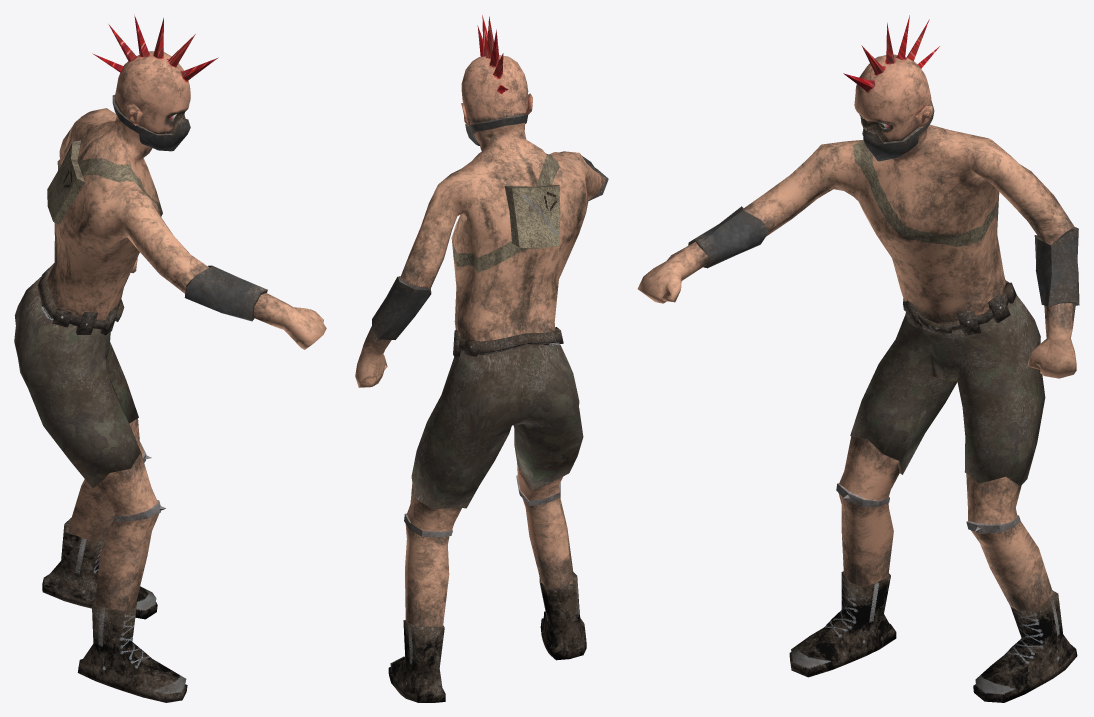
Rendered from Anim_interruptor_npc2.0027.obj.
3 renders of one model, left to right at view 1: azimuth 30°, elevation 25°; view 2: azimuth 150°, elevation 25°; view 3: azimuth 270°, elevation 25°, orthographic. The views are drawn at different scales.
Visible parts, largest first — view 1: polySurface1; view 2: polySurface1; view 3: polySurface1.
Boxes of the visible parts, <box> form: polySurface1: <box>14,14,326,702</box>; polySurface1: <box>355,15,608,702</box>; polySurface1: <box>637,15,1079,702</box>.
Size of the model in its own units: 2.73 by 9.74 by 5.89.
